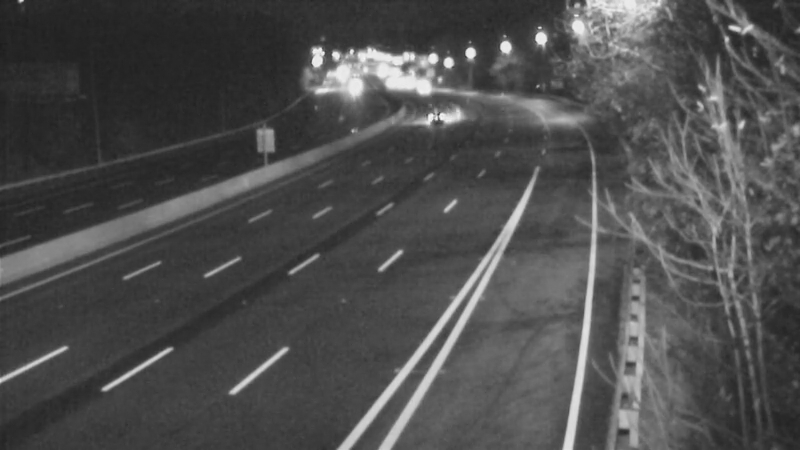vehicle: (401, 63, 451, 113), (411, 94, 461, 144), (326, 66, 376, 116)
